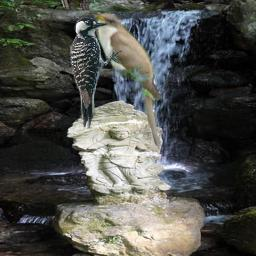Cuckoo: (87, 8, 164, 152)
Woodpecker: (68, 17, 124, 129)
